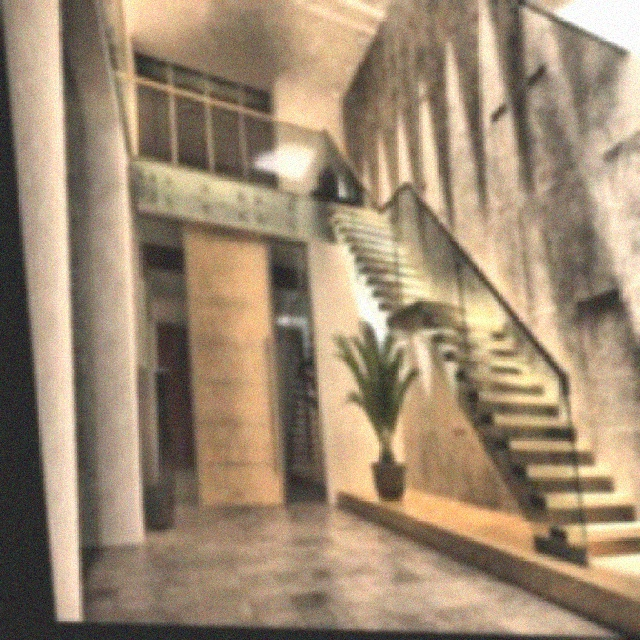stair: (418, 311, 640, 575)
